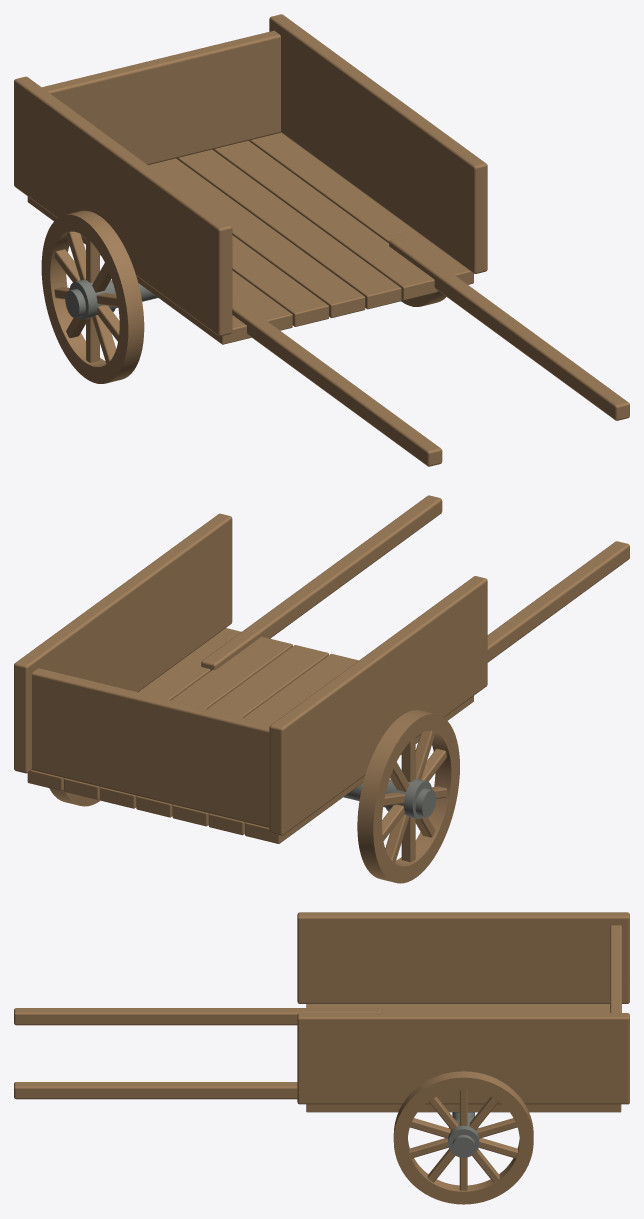
The model's file is grain-delivery-cart.glb.
The picture shows the model from 3 angles, top to bottom: view 1: azimuth 30°, elevation 25°; view 2: azimuth 150°, elevation 25°; view 3: azimuth 270°, elevation 25°; orthographic projection. The views are drawn at different scales.
Parts seen in each view (by area): view 1: grain-delivery-cart; view 2: grain-delivery-cart; view 3: grain-delivery-cart.
Part boxes in pixels (left/top/right/bottom): grain-delivery-cart: left=14, top=14, right=629, bottom=466; grain-delivery-cart: left=14, top=495, right=629, bottom=883; grain-delivery-cart: left=14, top=912, right=629, bottom=1204.
Bounding box in the file's own units: 1.9 × 1.1 × 3.52.
